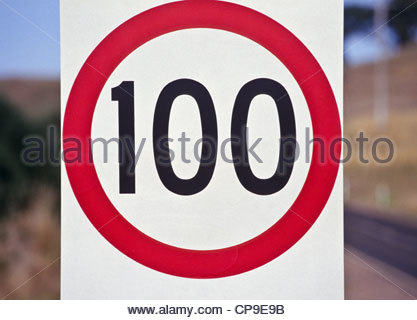Speed_limit_100km: (61, 1, 343, 278)
